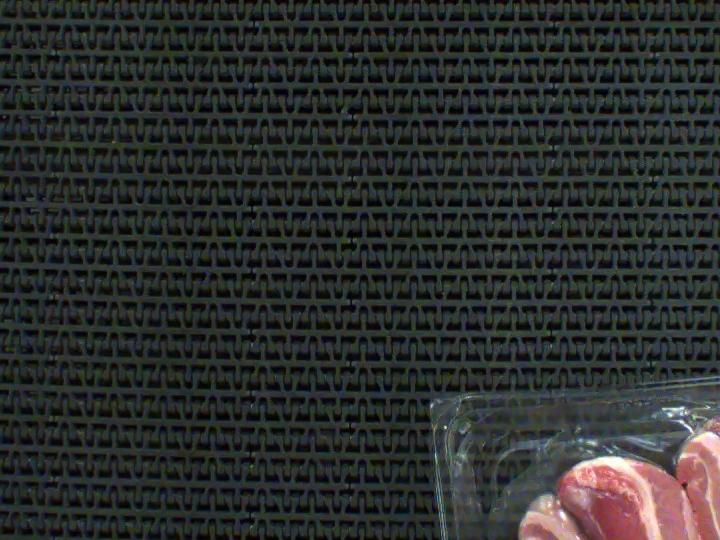unsealed: (483, 367, 720, 540)
